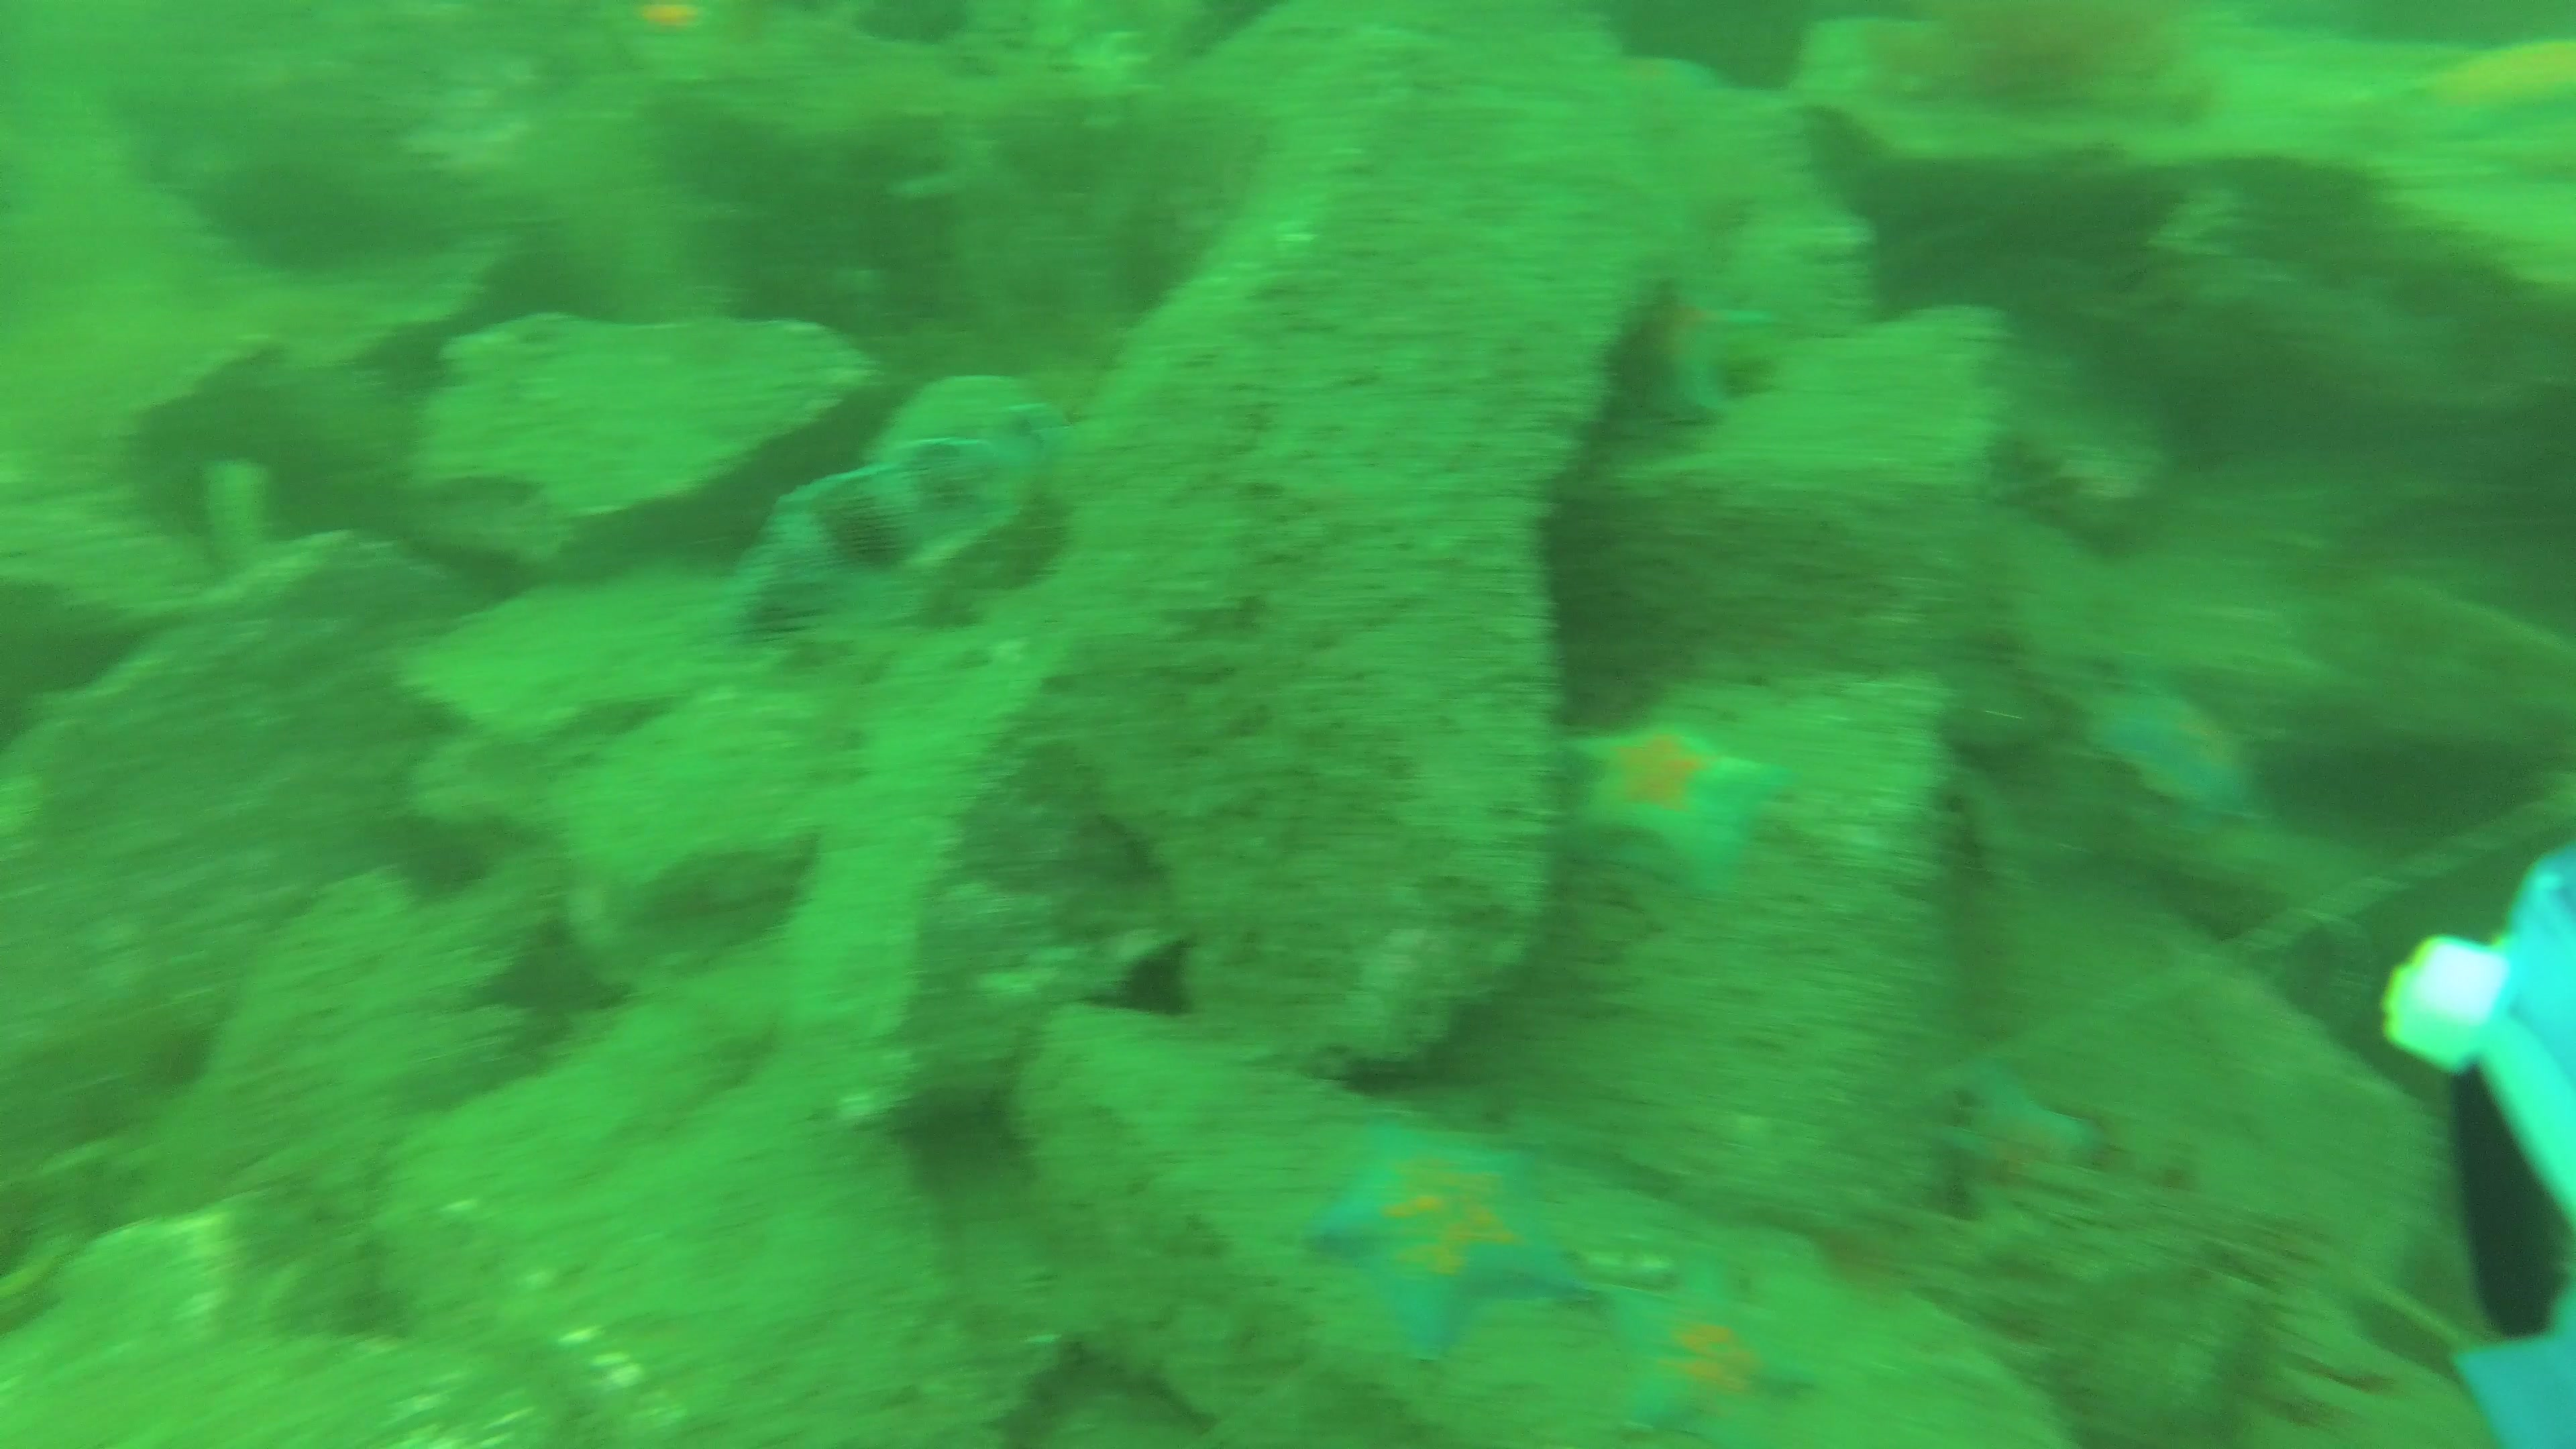echinus: (1077, 30, 1143, 134)
starfish: (1315, 1131, 1587, 1346), (1562, 727, 1778, 893), (1596, 1286, 1812, 1440), (2097, 688, 2247, 816), (2396, 42, 2576, 142), (1946, 1081, 2091, 1200), (1652, 287, 1782, 414), (617, 0, 731, 44)
